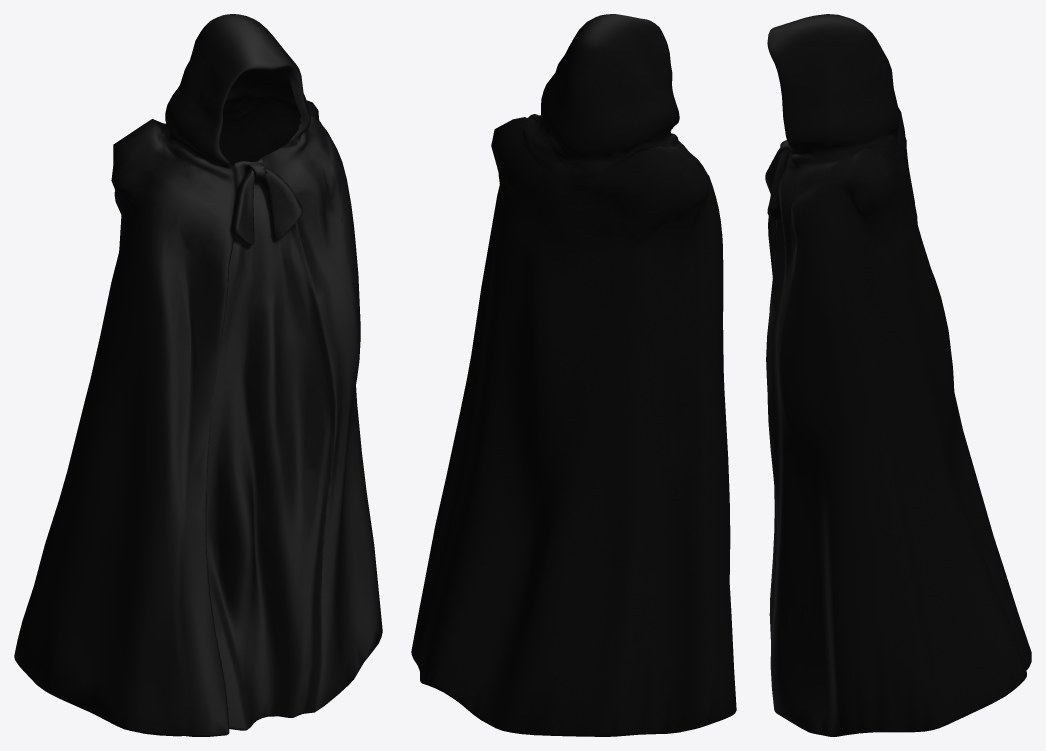
Rendered from CloakCombined.dae.
3 renders of one model, left to right at view 1: azimuth 30°, elevation 25°; view 2: azimuth 150°, elevation 25°; view 3: azimuth 270°, elevation 25°, orthographic. The views are drawn at different scales.
Parts seen in each view (by area): view 1: Cloak_Modified_002; view 2: Cloak_Modified_002; view 3: Cloak_Modified_002.
Part boxes in pixels (x1=…): Cloak_Modified_002: x1=14, y1=14, x2=382, y2=736; Cloak_Modified_002: x1=411, y1=14, x2=736, y2=736; Cloak_Modified_002: x1=765, y1=14, x2=1031, y2=736.
Bounding box in the file's own units: 4.43 × 3.21 × 9.
Materials: 1 (1 with a texture image).
